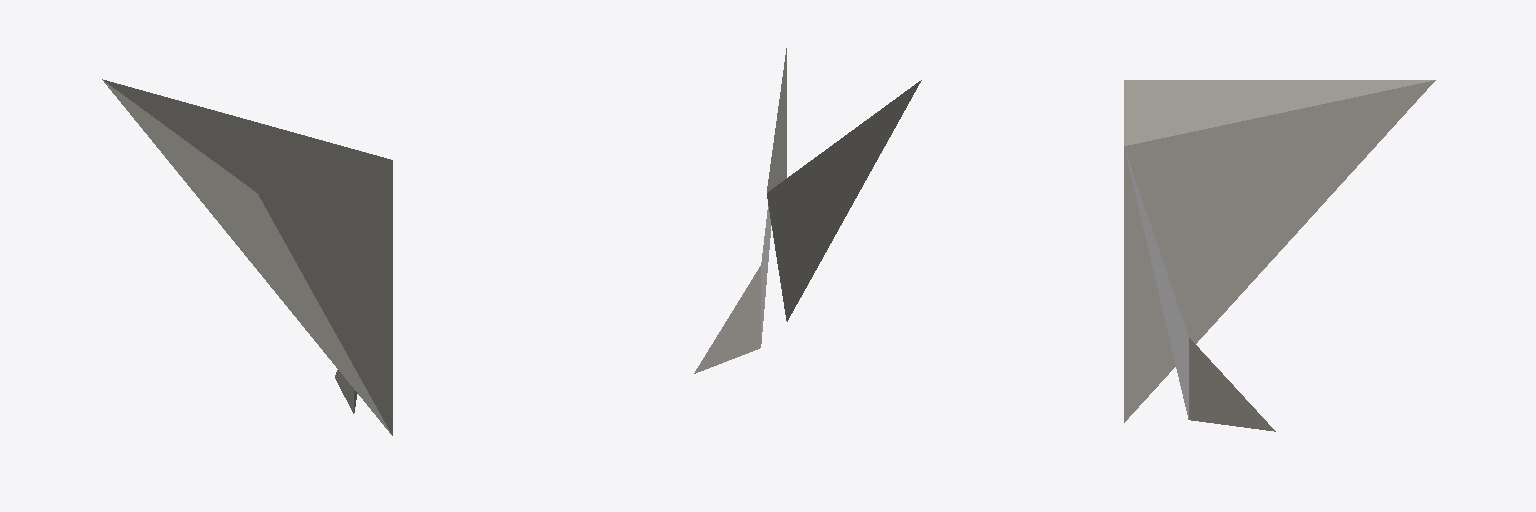
The model's file is CornellBox-Original.obj.
The picture shows the model from 3 angles: view 1: azimuth 30°, elevation 25°; view 2: azimuth 150°, elevation 25°; view 3: azimuth 270°, elevation 25°; orthographic projection.
Visible parts, largest first — view 1: leftWall; view 2: leftWall, floor; view 3: leftWall, floor.
Part boxes in pixels (x1,y1,x2,y2): leftWall: (102, 79, 392, 435); leftWall: (761, 48, 921, 343); floor: (694, 266, 760, 373); leftWall: (1124, 80, 1435, 422); floor: (1189, 338, 1275, 431).
Bounding box in the file's own units: 1.15 × 1.99 × 2.03.